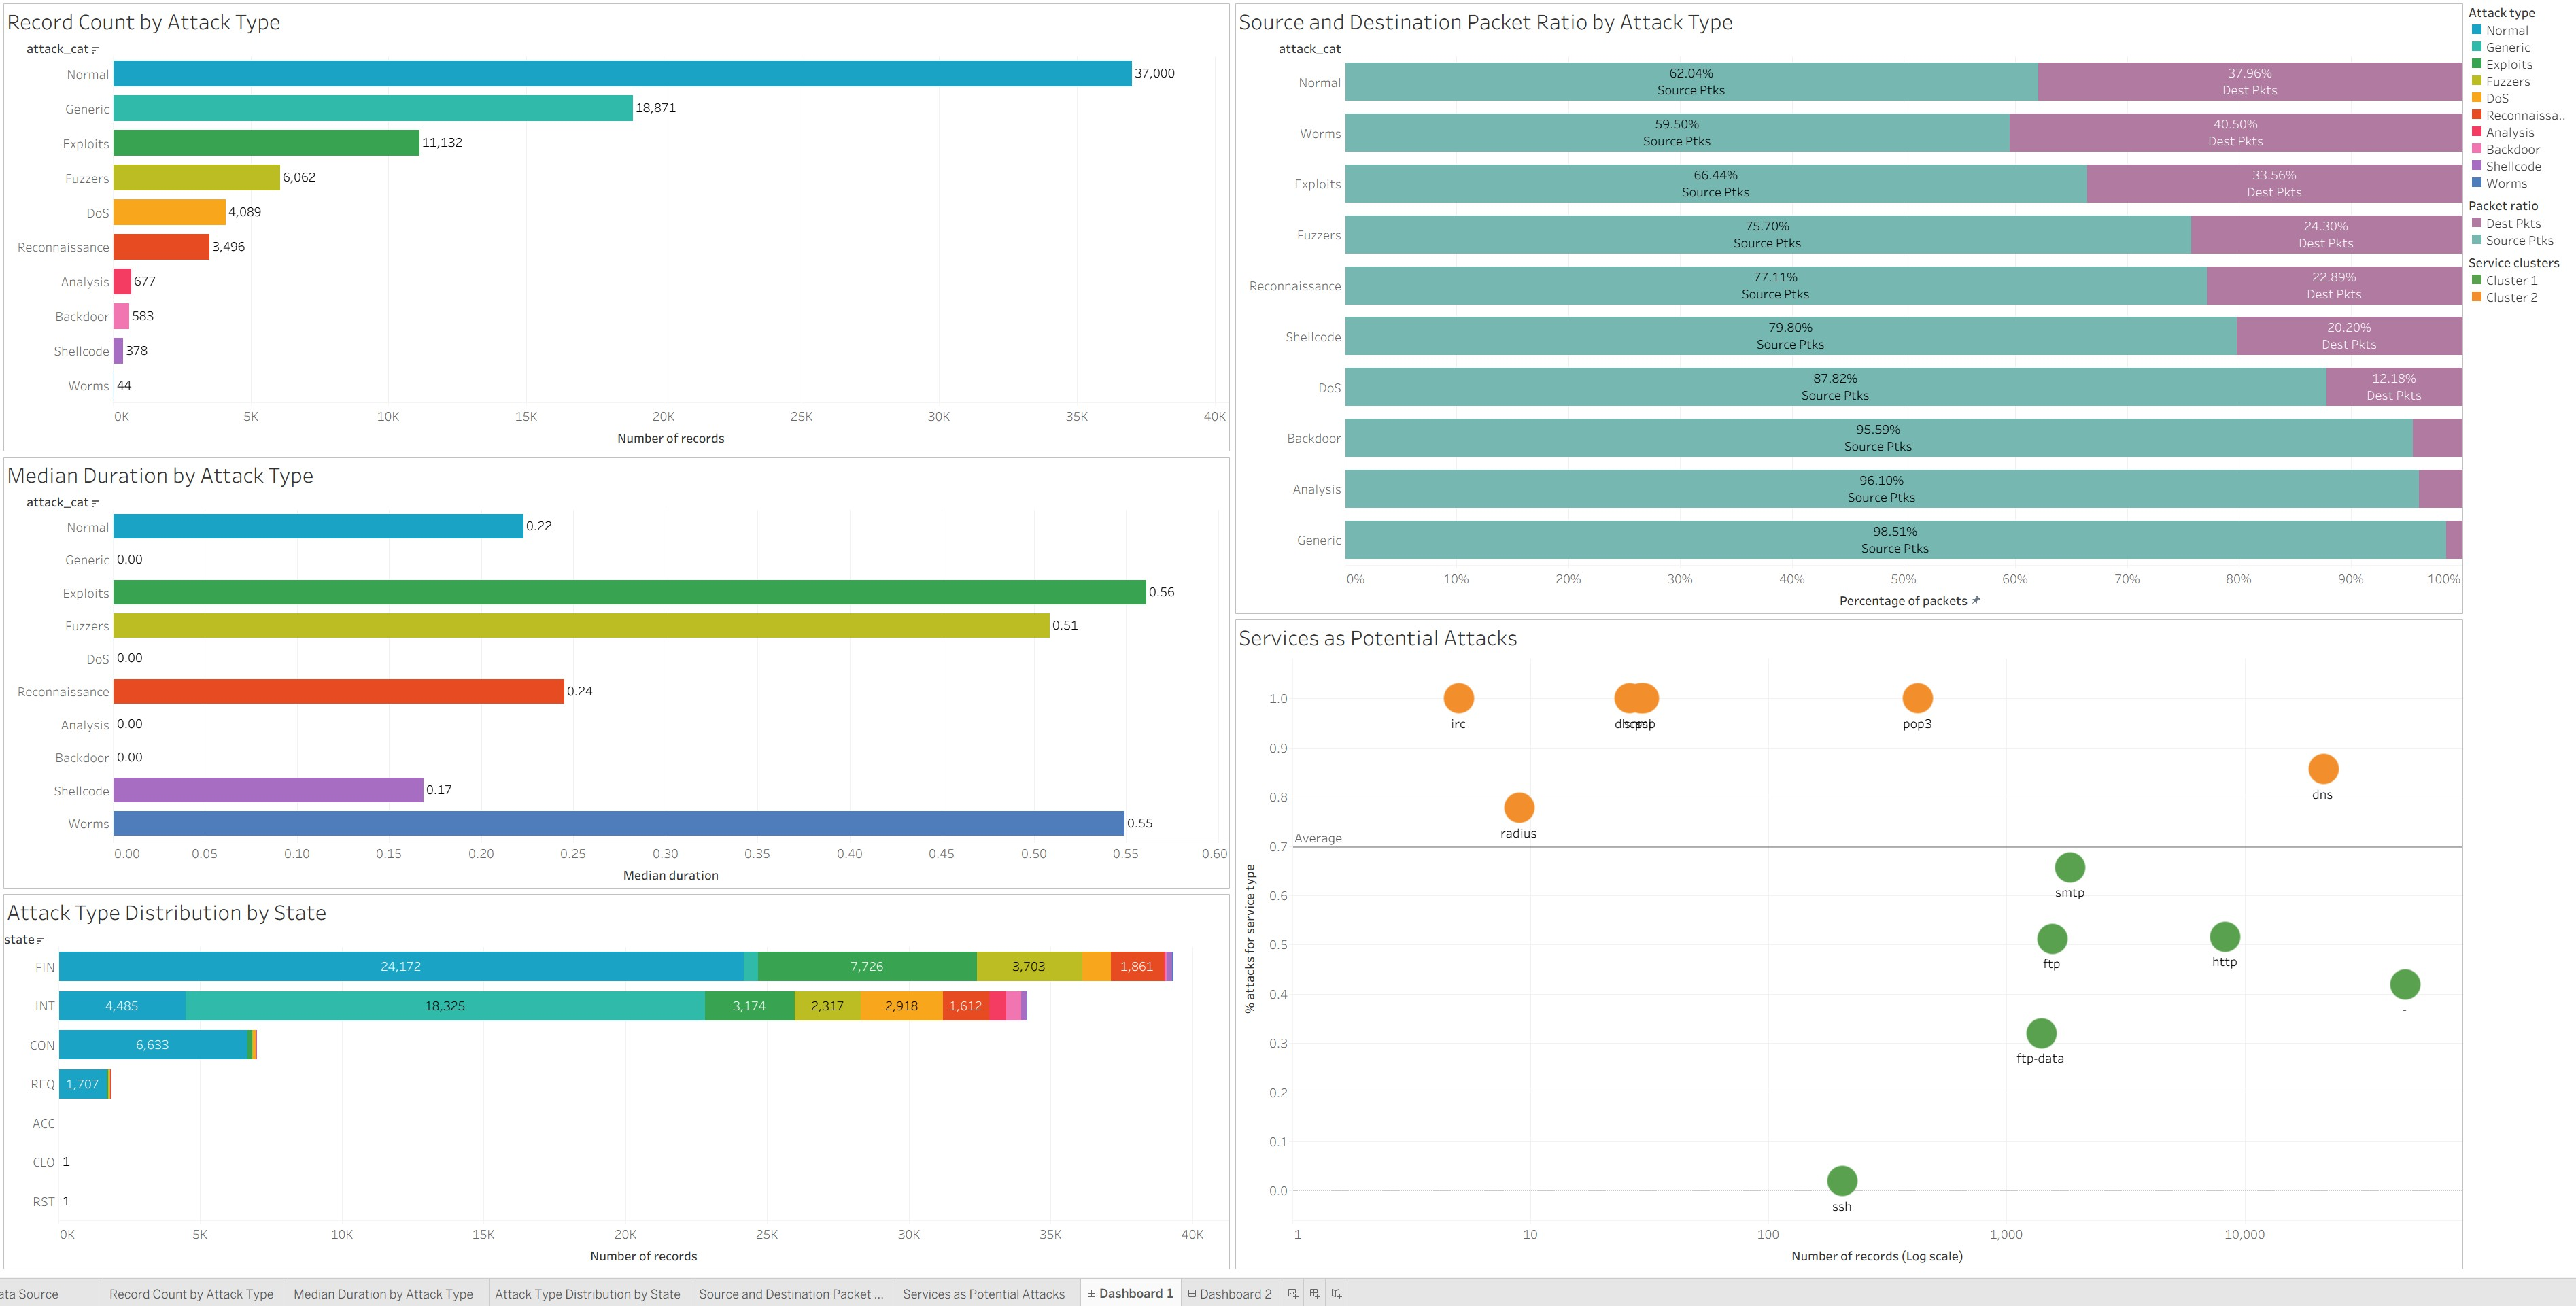

The dashboard page shown, as its layout file describes it:
{"tool":"tableau","page":{"name":"Dashboard 1","canvas":[1000,1000],"units":"permille","ordinal":0},"visuals":[{"type":"worksheet","title":"Record Count by Attack Type","mark":"Automatic","rows":["attack_cat"],"cols":["id"],"box":[2.3,4.2,475,353.7]},{"type":"worksheet","title":"Source and Destination Packet Ratio by Attack Type","mark":"Automatic","rows":["attack_cat"],"box":[477.2,4.2,475.1,526.5]},{"type":"legend","title":"Record Count by Attack Type","param":"[federated.1itmja01vamjv0164jt1c12vclco].[none:attack_cat:nk]","box":[952.3,4.2,45.4,150.6]},{"type":"legend","title":"Source and Destination Packet Ratio by Attack Type","param":"[federated.1itmja01vamjv0164jt1c12vclco].[:Measure Names]","box":[952.3,154.8,45.4,44.5]},{"type":"legend","title":"Services as Potential Attacks","param":"[federated.1itmja01vamjv0164jt1c12vclco].[none:AdhocCluster:1:ok]","box":[952.3,199.4,45.4,44.5]},{"type":"worksheet","title":"Median Duration by Attack Type","mark":"Automatic","rows":["attack_cat"],"cols":["dur"],"box":[2.3,357.9,475,331.4]},{"type":"worksheet","title":"Services as Potential Attacks","mark":"Automatic","rows":["label"],"cols":["id"],"box":[477.2,530.8,475.1,465]},{"type":"worksheet","title":"Attack Type Distribution by State","mark":"Automatic","rows":["state"],"cols":["id"],"box":[2.3,689.3,475,306.5]}]}

Visuals, with their boxes on the dashboard's canvas, which has no fixed pixel size, in thousandths of its width and height (x1, y1, x2, y2). These are canvas units, not pixel positions in the 2576x1306 screenshot, which may show the page scaled, cropped or inside an application window:
"Record Count by Attack Type" worksheet: 2 4 477 358
"Source and Destination Packet Ratio by Attack Type" worksheet: 477 4 952 531
"Record Count by Attack Type" legend: 952 4 998 155
"Source and Destination Packet Ratio by Attack Type" legend: 952 155 998 199
"Services as Potential Attacks" legend: 952 199 998 244
"Median Duration by Attack Type" worksheet: 2 358 477 689
"Services as Potential Attacks" worksheet: 477 531 952 996
"Attack Type Distribution by State" worksheet: 2 689 477 996
